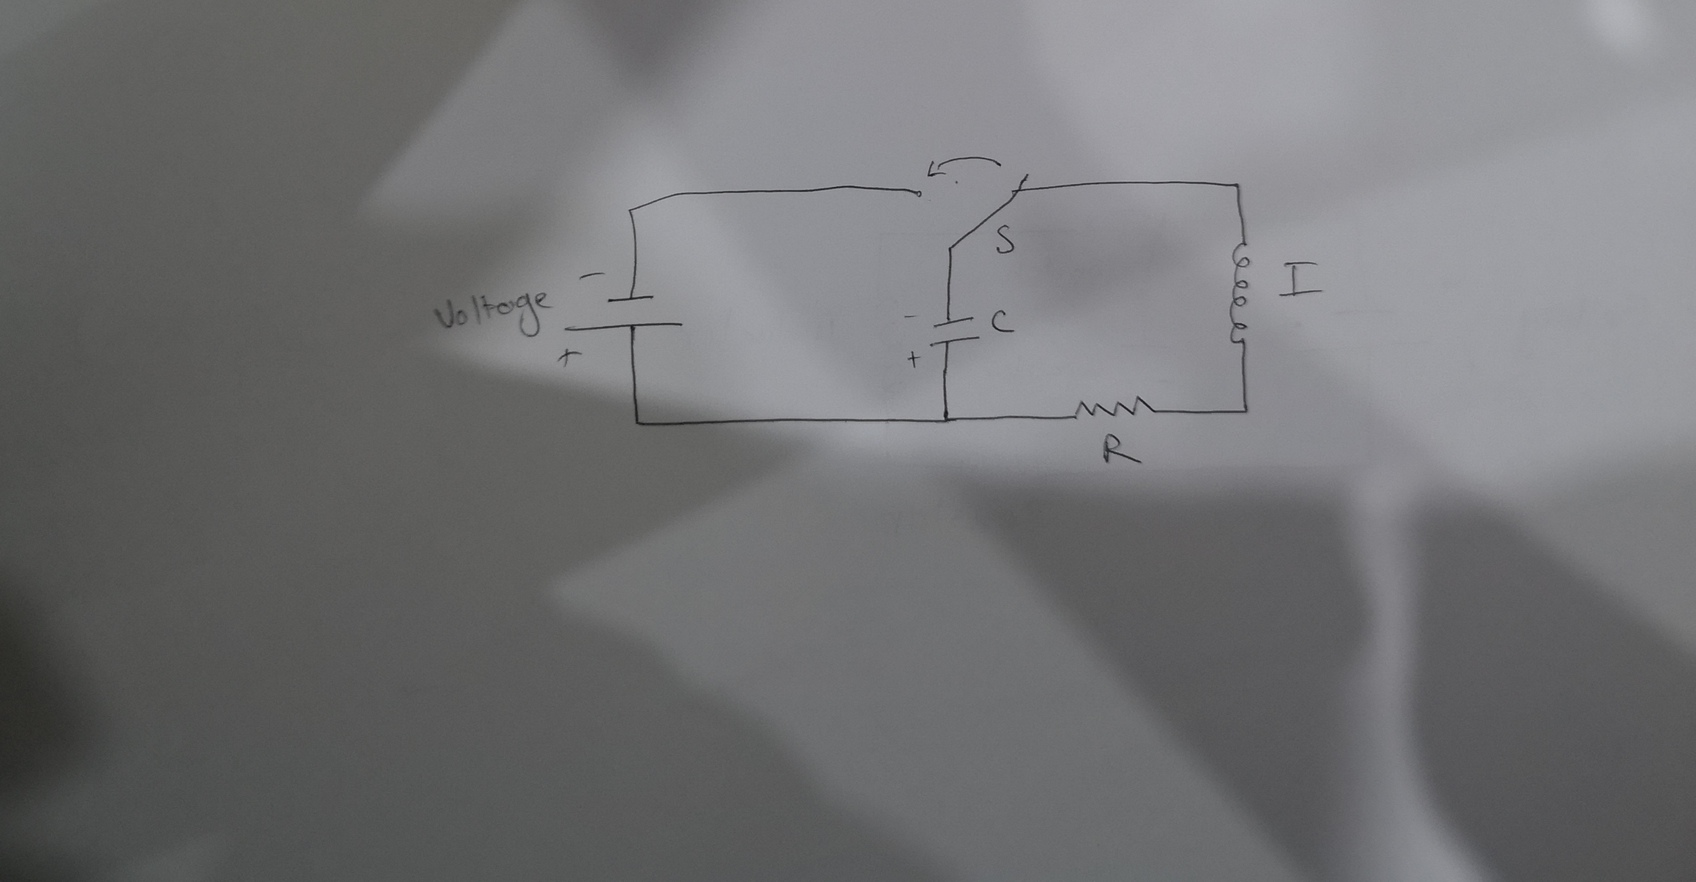capacitor.polarized: (901, 307, 986, 371)
inductor: (1226, 226, 1255, 357)
junction: (617, 199, 640, 221), (1235, 399, 1256, 421), (628, 413, 648, 432), (937, 408, 957, 428), (1228, 177, 1246, 195)
resistor: (1070, 391, 1156, 424)
switch: (907, 149, 1032, 255)
text: (426, 285, 555, 339), (1275, 256, 1326, 300), (1100, 431, 1145, 472), (988, 307, 1016, 336), (992, 226, 1018, 255)
voltage.dc: (559, 290, 686, 339)
